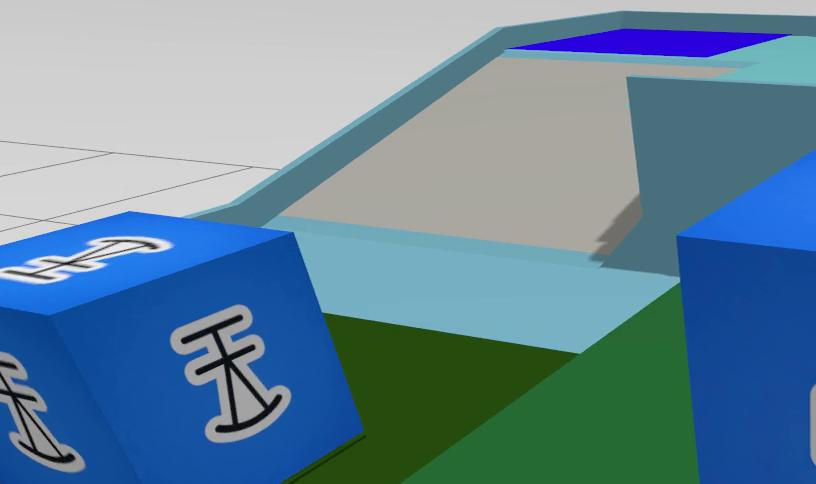KFS_REAL: (0, 212, 362, 484), (677, 149, 816, 484), (171, 307, 291, 442), (811, 386, 816, 464)
